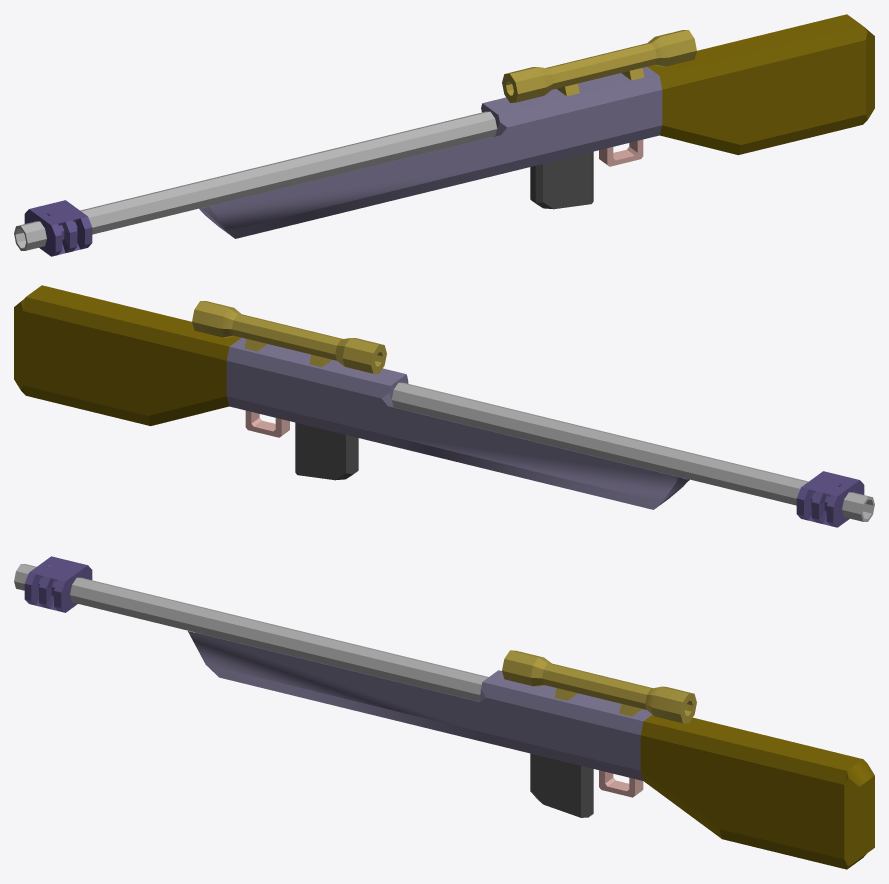
The model's file is Sniper.fbx.
3 views of the same model, one above another, from view 1: azimuth 30°, elevation 25°; view 2: azimuth 150°, elevation 25°; view 3: azimuth 330°, elevation 25° (orthographic).
Parts seen in each view (by area): view 1: Sniper; view 2: Sniper; view 3: Sniper.
Boxes of the visible parts, x1,y1,x2,y2 form: Sniper: (14, 14, 874, 256); Sniper: (14, 285, 874, 527); Sniper: (14, 556, 874, 869).
Size of the model in its own units: 22.83 by 3.76 by 1.45.
